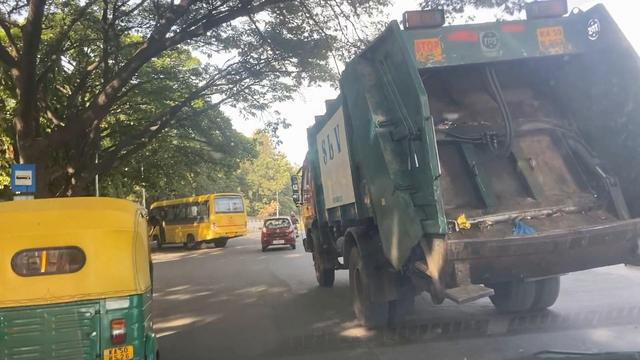HMV: (291, 0, 640, 335)
LMV: (0, 198, 163, 359)
